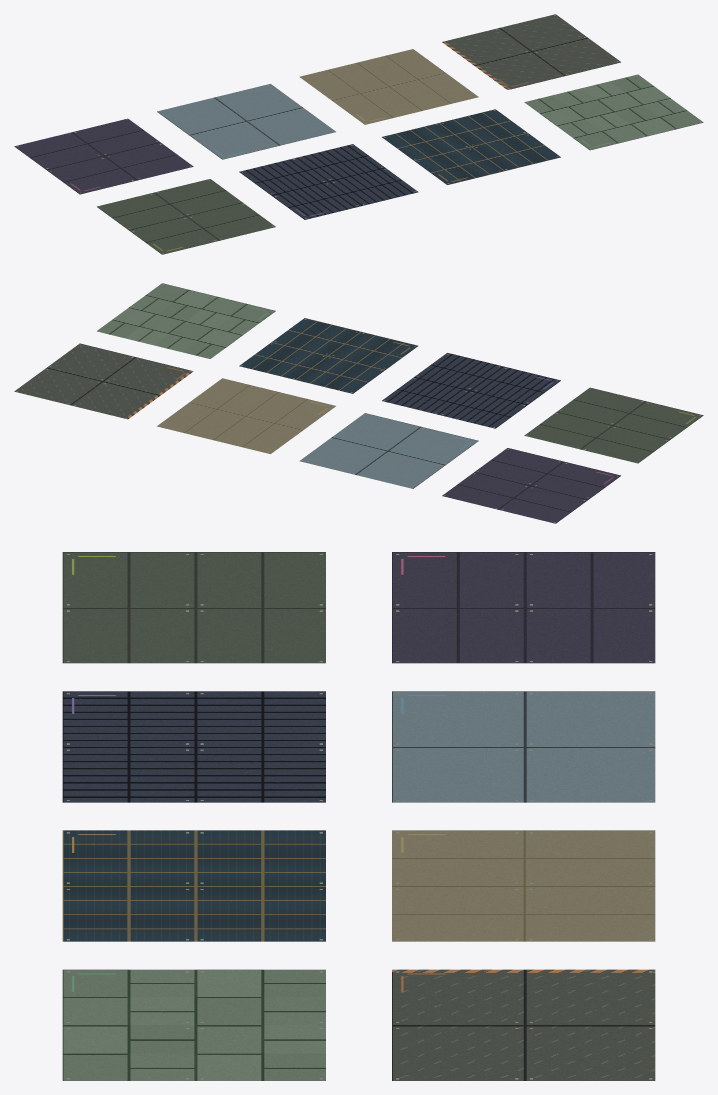
Rendered from platform-surfaces.glb.
3 renders of one model, top to bottom at view 1: azimuth 30°, elevation 25°; view 2: azimuth 150°, elevation 25°; view 3: azimuth 270°, elevation 25°, orthographic. The views are drawn at different scales.
Parts seen in each view (by area): view 1: PlatformSurfacePalette; view 2: PlatformSurfacePalette; view 3: PlatformSurfacePalette.
Part boxes in pixels (x1,y1,x2,y2): PlatformSurfacePalette: [14, 14, 703, 254]; PlatformSurfacePalette: [14, 283, 703, 523]; PlatformSurfacePalette: [62, 552, 655, 1080].
Bounding box in the file's own units: 19 × 0 × 9.
1 material, 1 textured.
